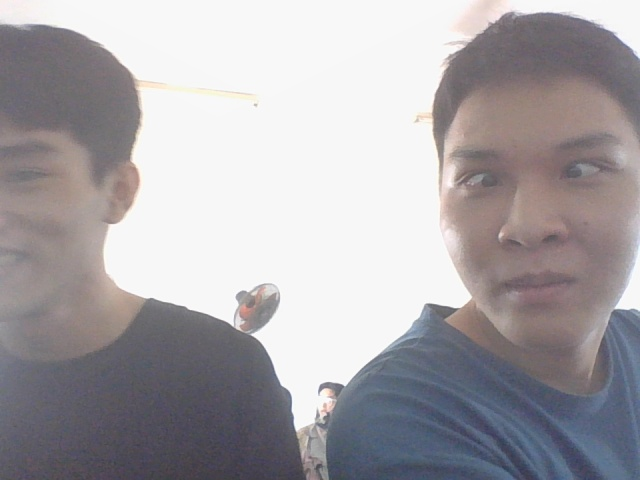real: (407, 0, 640, 401)
